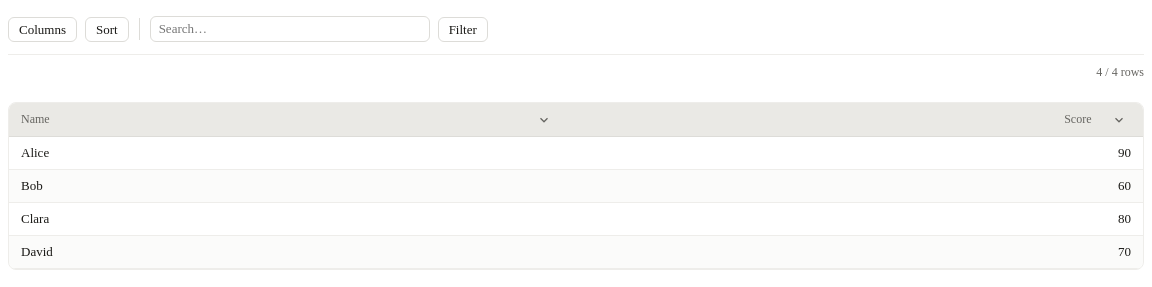
Test: DataTable — filter dropdown › shift-clicking an already-excluded checklist value re-checks the range
Click the button "Filter". click: (463, 29)
box: [438, 16, 488, 42]
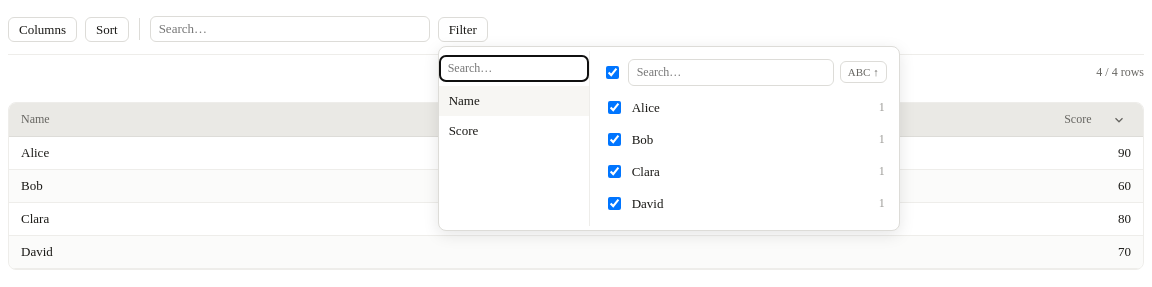
Click the checkbox named "Select all". click: (612, 72)
box: [606, 66, 619, 78]
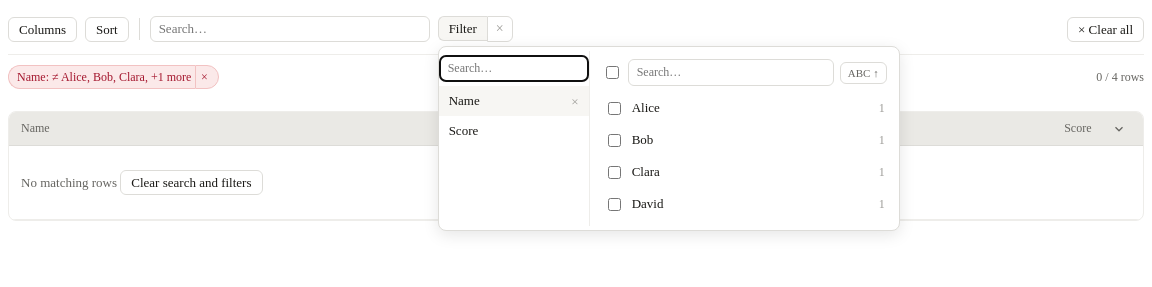
Click the checkbox labelled "Alice". click: (614, 108)
box: [608, 102, 621, 114]
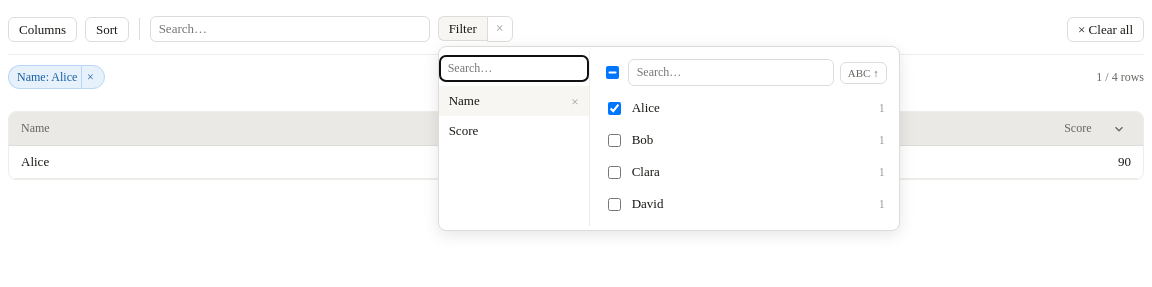
Click the checkbox labelled "Alice". click: (614, 108)
box: [608, 102, 621, 114]
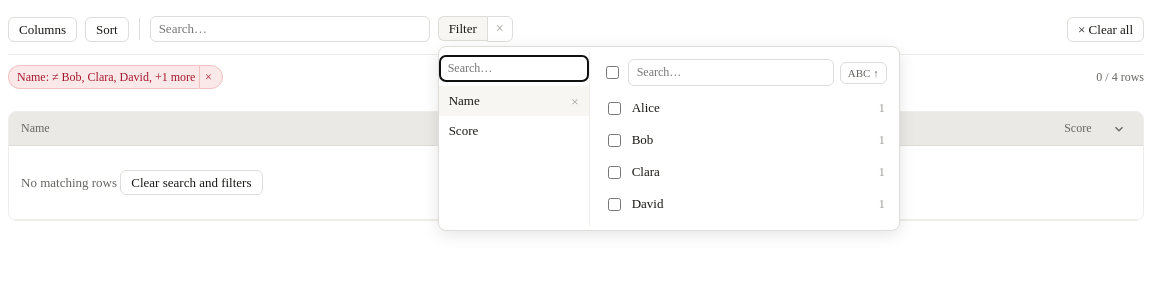
Click the checkbox labelled "Clara". click: (614, 172)
box: [608, 166, 621, 178]
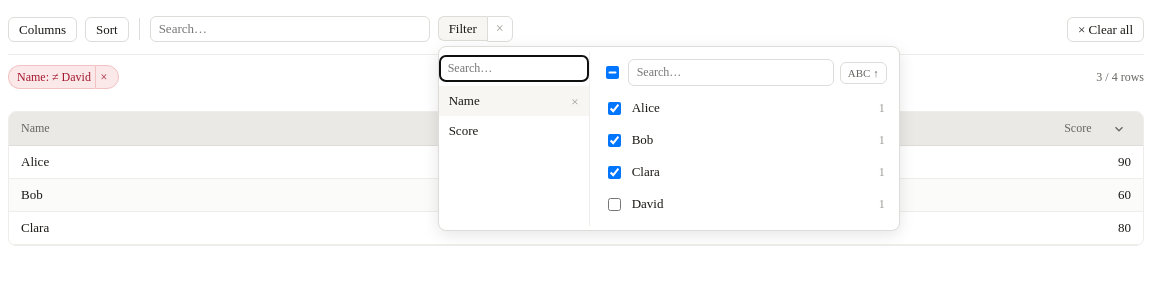
Expected: the checkbox labelled "Alice" is checked, [608, 102, 621, 114]
Expected: the checkbox labelled "Clara" is checked, [608, 166, 621, 178]
Expected: the checkbox labelled "Bob" is checked, [608, 134, 621, 146]
